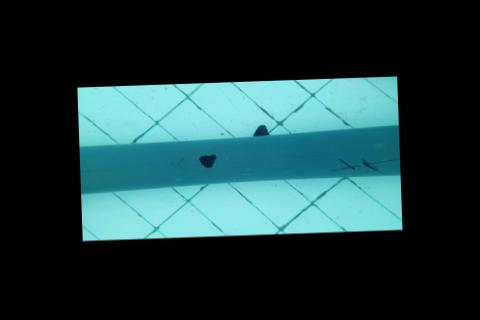kebocoran: (198, 151, 217, 168)
keretakan: (329, 155, 401, 174)
